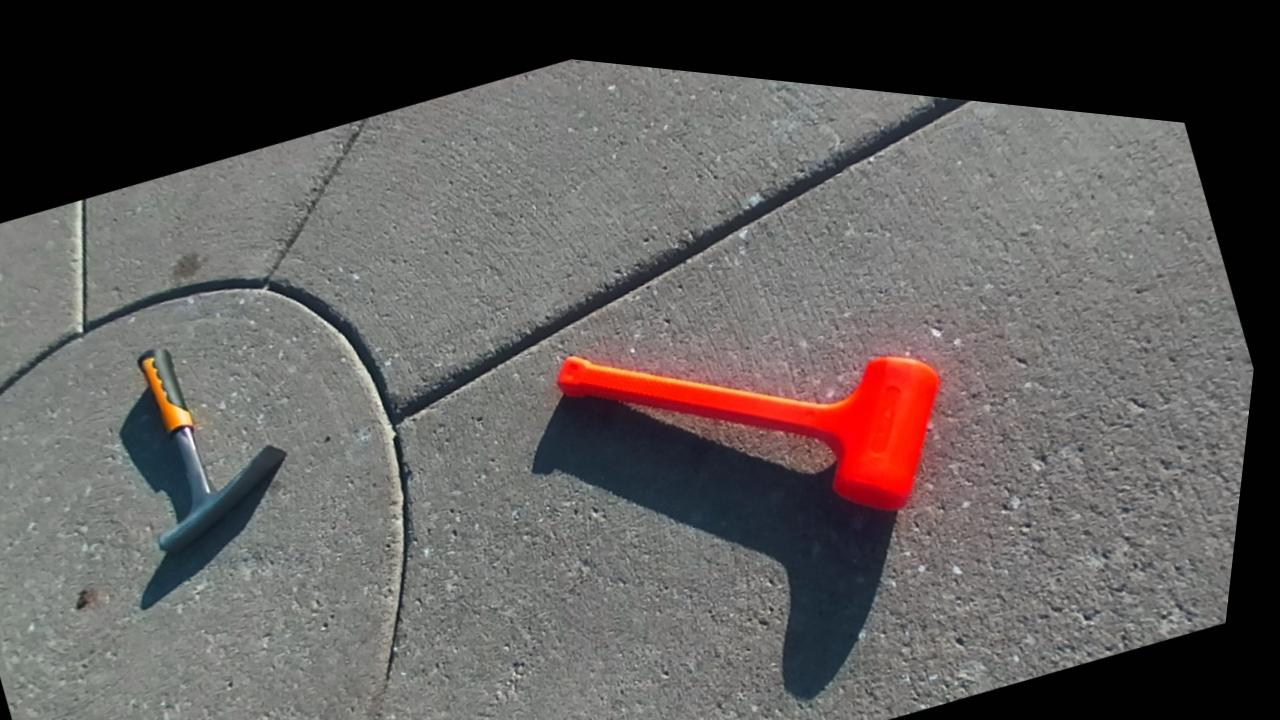mallet: (557, 355, 938, 510)
pick: (138, 348, 286, 553)
